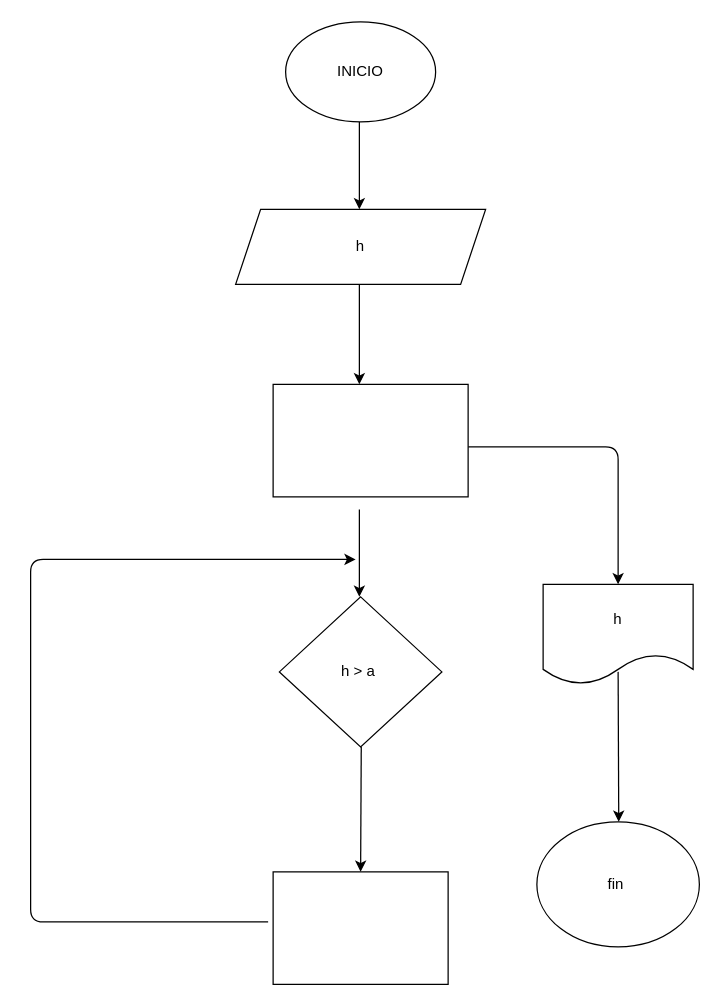
This 721x1006 diagram has some shape labels left out. Each missing label, with the centre of its shape:
"a = h/5 n = 0" goes at (370,440).
"h = h -0.1*h n = n + 1" goes at (360,927).
